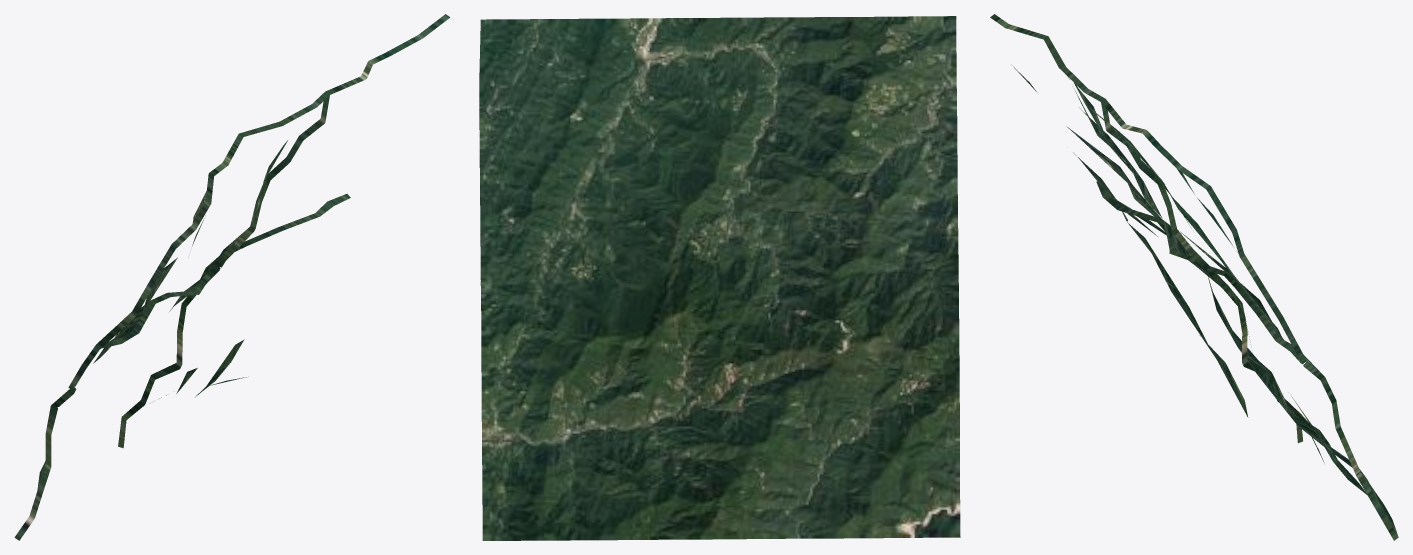
The picture shows the model from 3 angles, left to right: view 1: azimuth 30°, elevation 25°; view 2: azimuth 150°, elevation 25°; view 3: azimuth 270°, elevation 25°; orthographic projection. The views are drawn at different scales.
Size of the model in its own units: 20219 by 18198 by 16377.
1 material, 1 textured.
